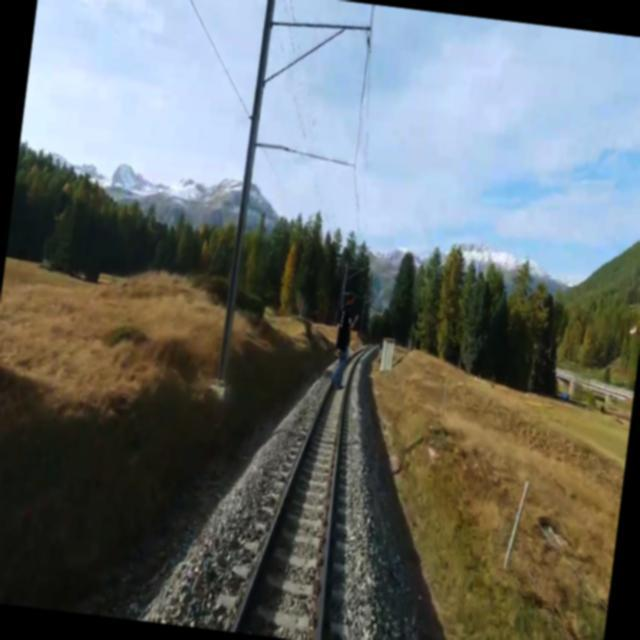danger: (324, 307, 357, 395)
rail: (191, 339, 380, 637)
